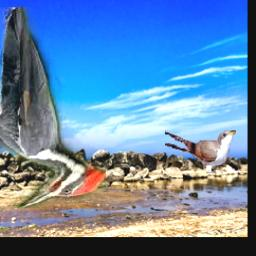Cuckoo: (166, 129, 237, 173)
Woodpecker: (0, 7, 106, 208)
